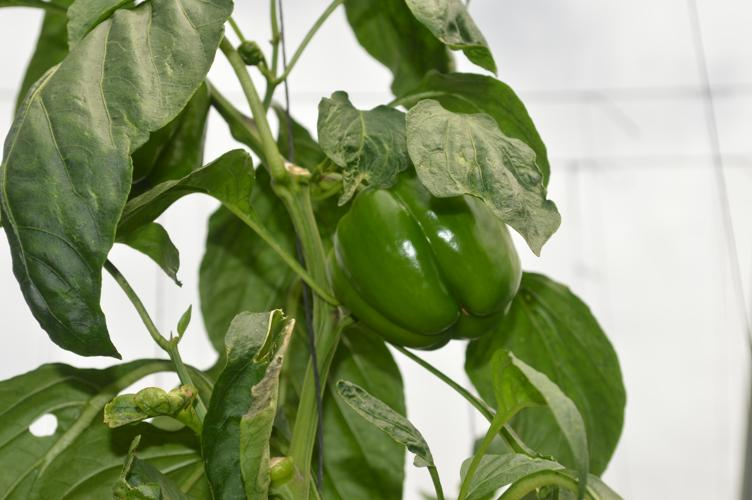BellPepper: (310, 172, 524, 349), (111, 83, 219, 183)
